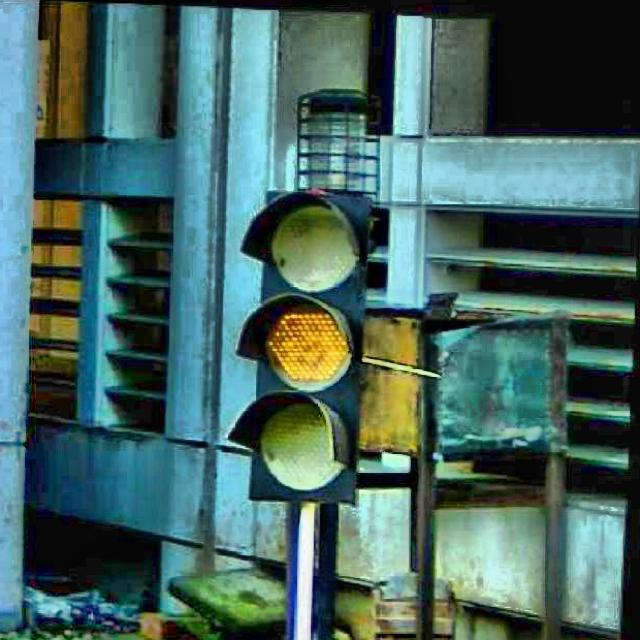yellow: (242, 194, 356, 506)
